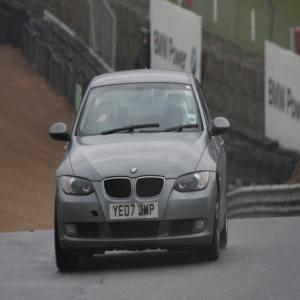Vehicle-registration-plate: (111, 204, 160, 222)
